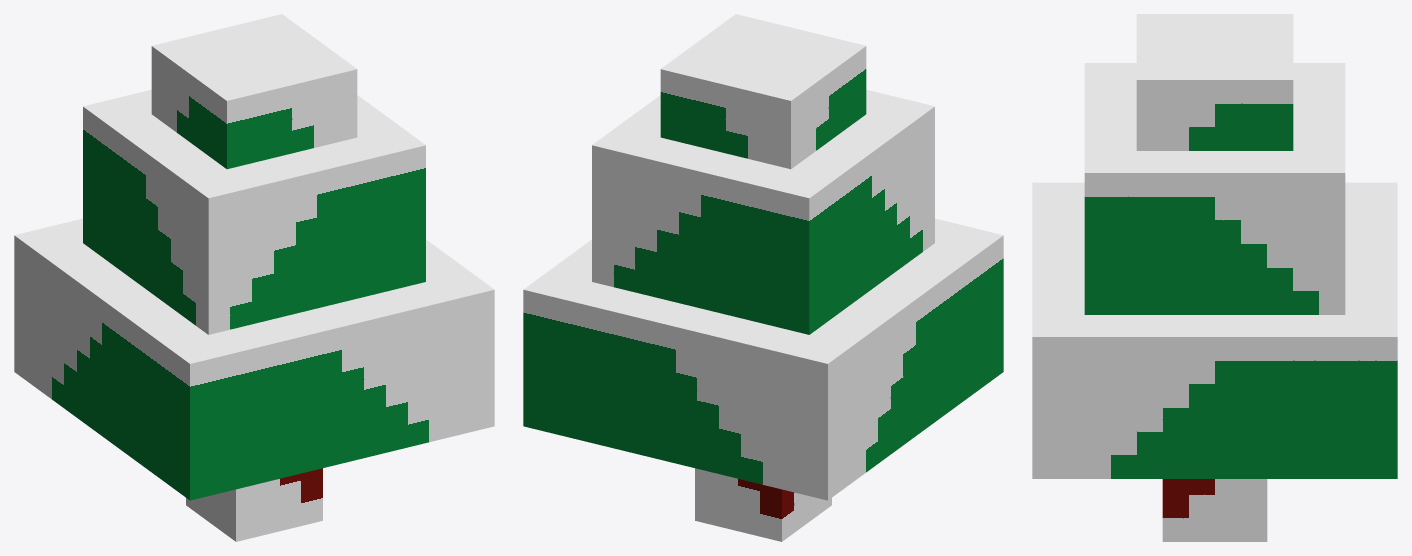
File: Pine_2.fbx
3 views of the same model, side by side, from view 1: azimuth 30°, elevation 25°; view 2: azimuth 150°, elevation 25°; view 3: azimuth 270°, elevation 25° (orthographic). The views are drawn at different scales.
Visible parts, largest first — view 1: Pine_2; view 2: Pine_2; view 3: Pine_2.
Boxes of the visible parts, left/top/right/bottom form: Pine_2: left=14, top=14, right=494, bottom=541; Pine_2: left=523, top=14, right=1003, bottom=541; Pine_2: left=1032, top=14, right=1397, bottom=541.
Size of the model in its own units: 14 by 20 by 14.
Materials: 1 (1 with a texture image).
